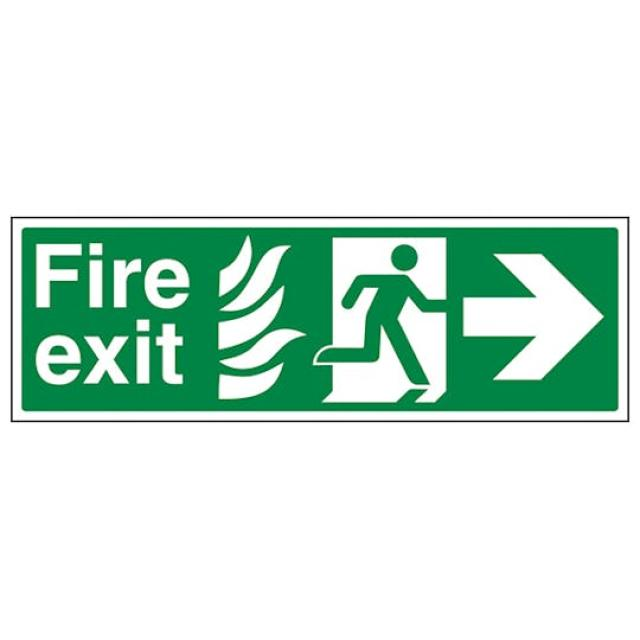exit_sign: (5, 205, 640, 442)
